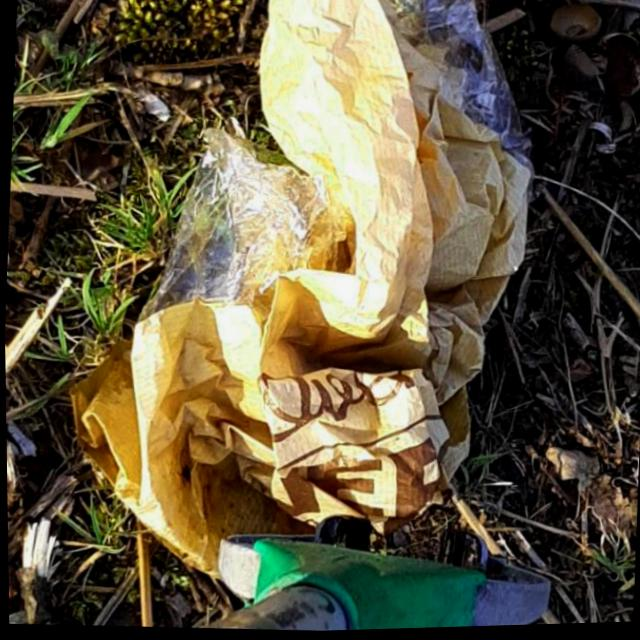Paper: (54, 0, 548, 599)
